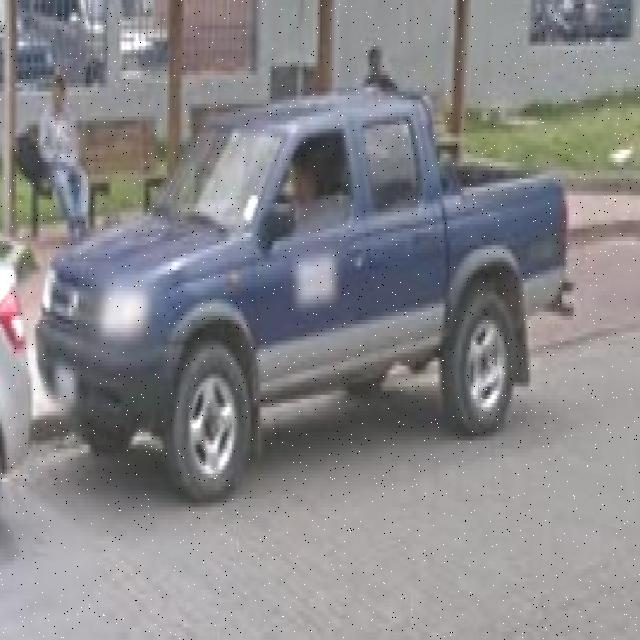car: (36, 107, 570, 478)
